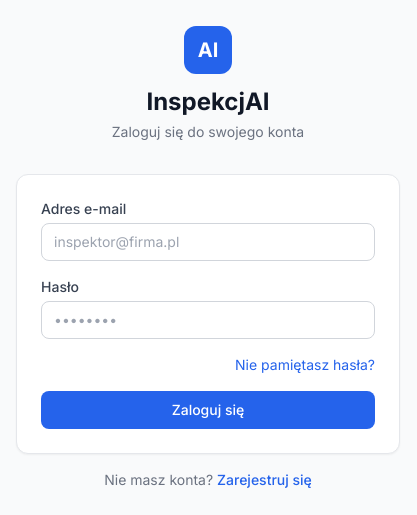
LoginPage › shows validation error for empty password on submit
The width and height of the screenshot is (417, 515).
Type "test@example.com" into the field labelled "Adres e-mail" at (208, 242), box [41, 223, 375, 261]
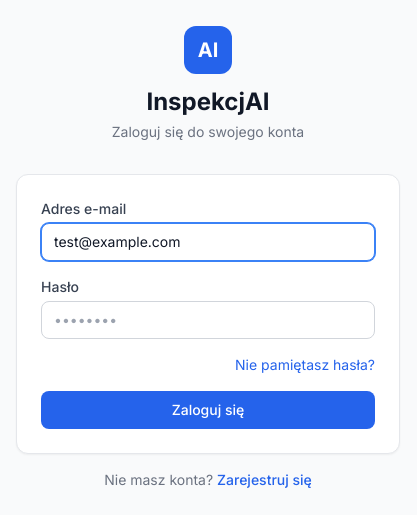
Click the button "Zaloguj się" at (208, 410), box [41, 391, 375, 429]
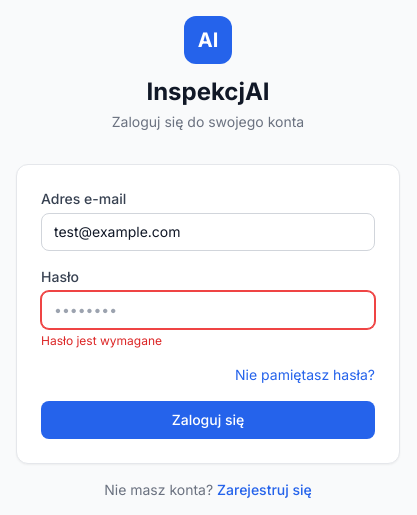
Expected: the text "Hasło jest wymagane" is shown, [41, 333, 162, 348]
